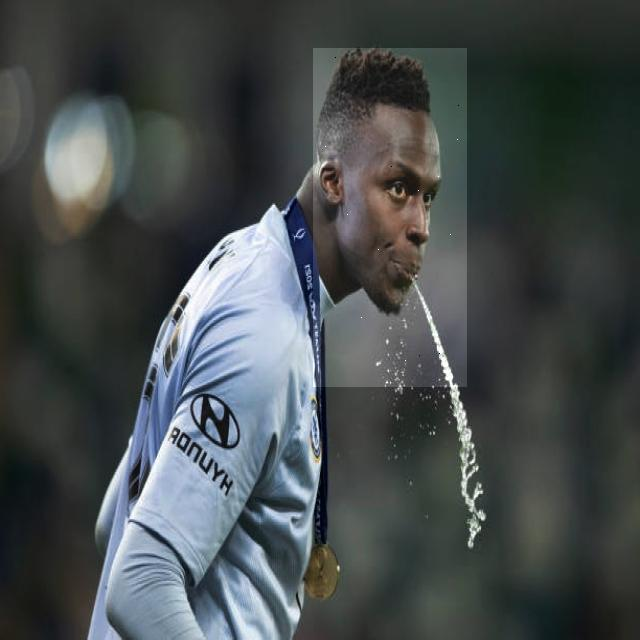Spitting: (313, 48, 467, 387)
